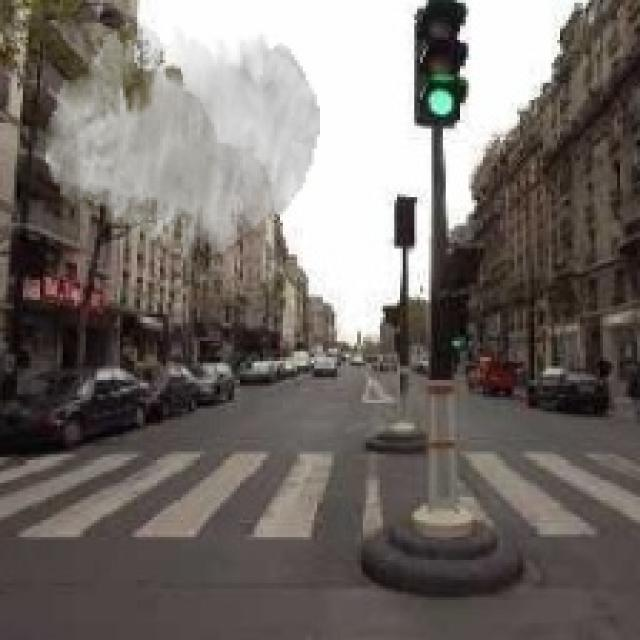smoke: (46, 26, 320, 257)
